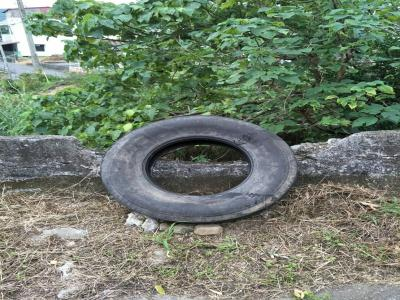tire: (98, 112, 303, 227)
